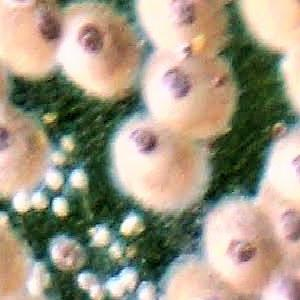Femea: (119, 116, 187, 194), (154, 57, 221, 128), (66, 15, 125, 82), (5, 2, 64, 69), (148, 0, 225, 49), (219, 212, 263, 280), (264, 189, 299, 255), (0, 109, 26, 179), (264, 256, 299, 299)
Linfa: (50, 235, 79, 271), (86, 223, 109, 248), (64, 169, 90, 191), (118, 213, 144, 234), (118, 266, 137, 286), (42, 170, 63, 188), (105, 278, 126, 296), (136, 280, 155, 299), (28, 191, 46, 211), (78, 270, 97, 287), (10, 192, 27, 210), (50, 197, 66, 215), (88, 285, 104, 298)
